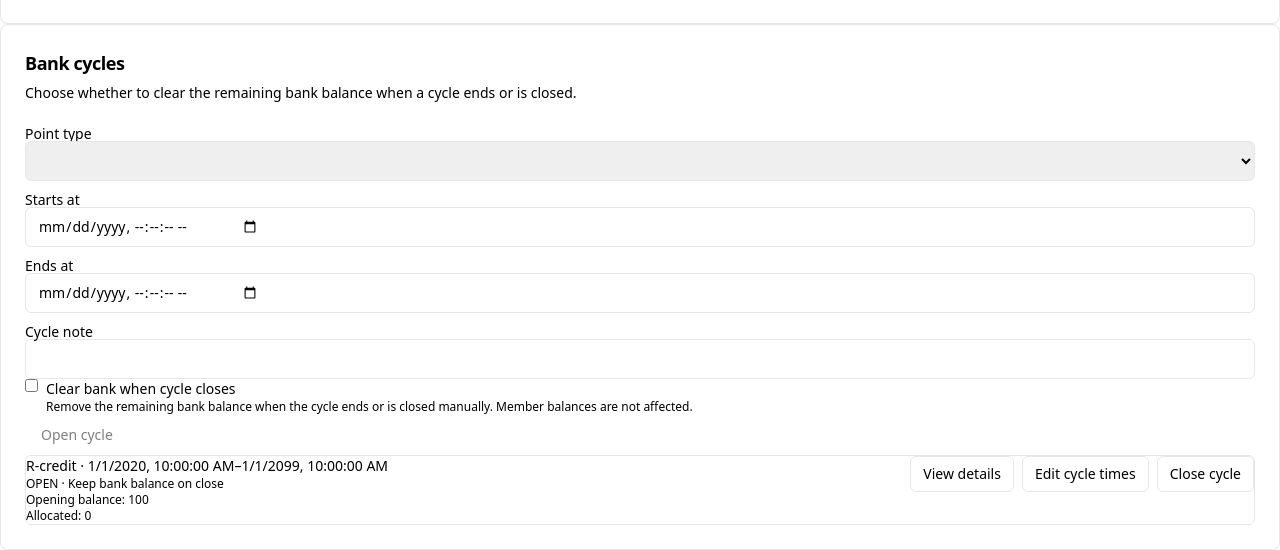
Scenario: sends only the changed end time and displays success next to the cycle
(page scrolled)
Click the button "Edit cycle times" at (1085, 474), box [1022, 456, 1149, 492]
(page scrolled)
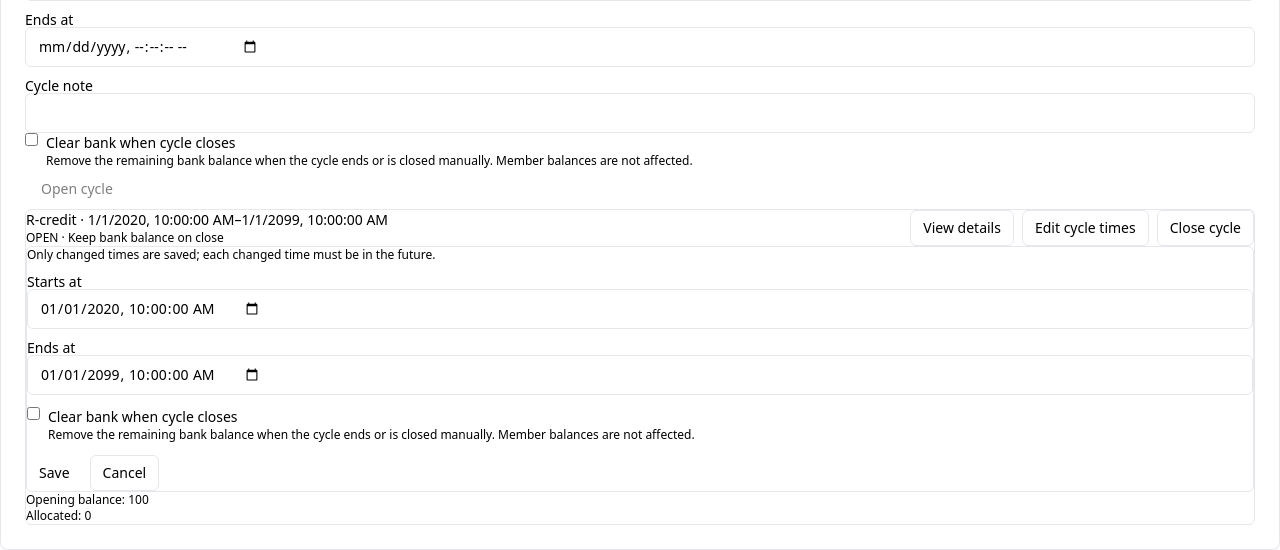
Replace the text in the field with id "edit-cycle-end-cycle-test" with "2098-01-01T10:00:00" at (640, 375), box [27, 355, 1253, 395]
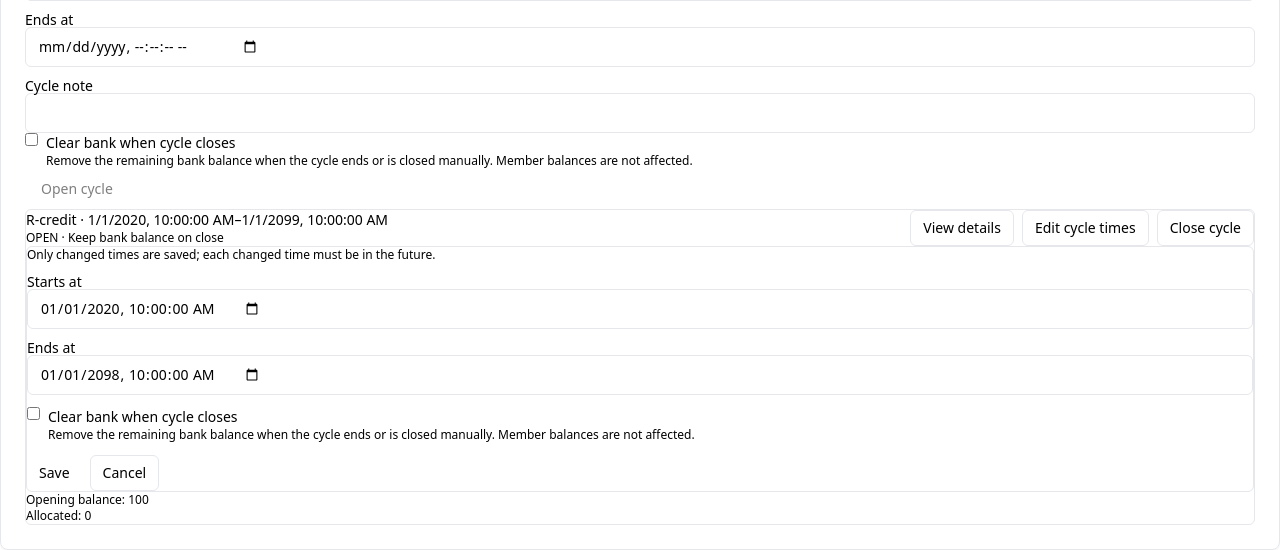
Click the button "Save" at (54, 473), box [27, 455, 82, 491]
(page scrolled)
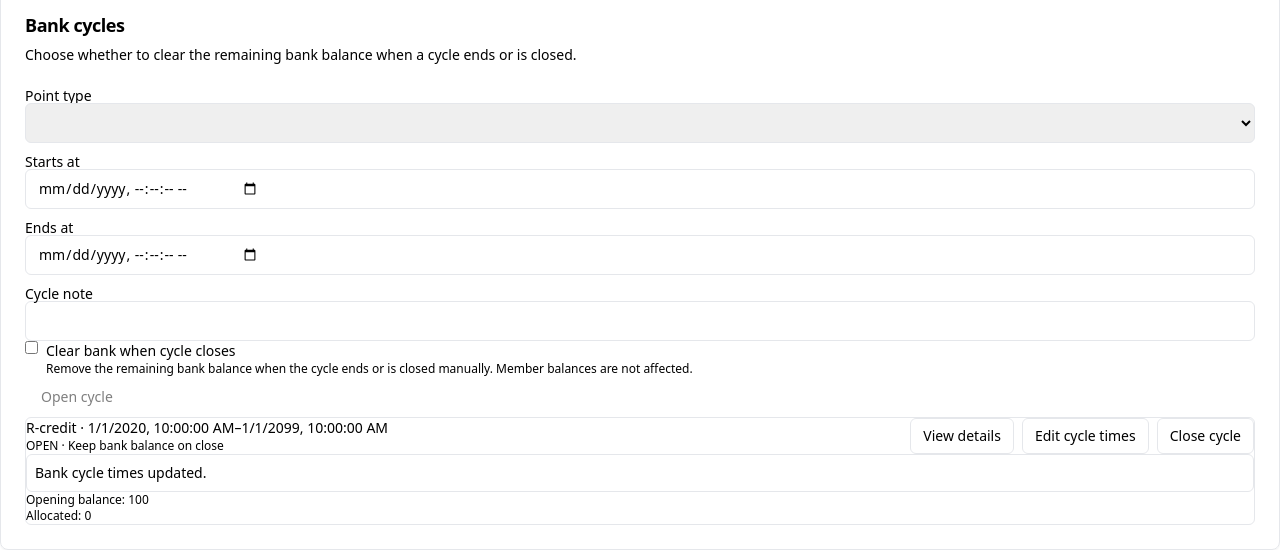
Now the text "Bank cycle times updated." is shown, box [26, 454, 1254, 492]
